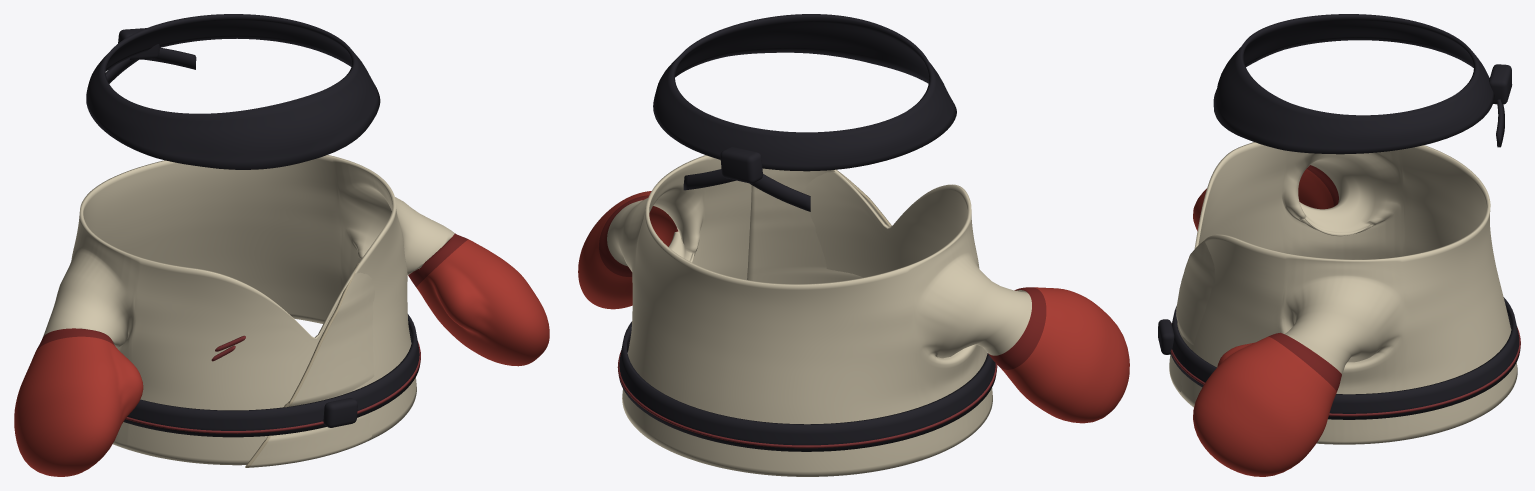
Rendered from mole-costume-double-hit.glb.
The picture shows the model from 3 angles, left to right: view 1: azimuth 30°, elevation 25°; view 2: azimuth 150°, elevation 25°; view 3: azimuth 270°, elevation 25°; orthographic projection. The views are drawn at different scales.
Visible parts, largest first — view 1: Costume_Skinned; view 2: Costume_Skinned; view 3: Costume_Skinned.
Part boxes in pixels (x1,y1,x2,y2): Costume_Skinned: (14, 14, 549, 476); Costume_Skinned: (578, 14, 1129, 476); Costume_Skinned: (1158, 14, 1520, 476).
Bounding box in the file's own units: 3.21 × 1.97 × 2.05.
